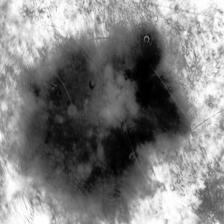Benign Marking or Mole: (19, 21, 192, 221)
